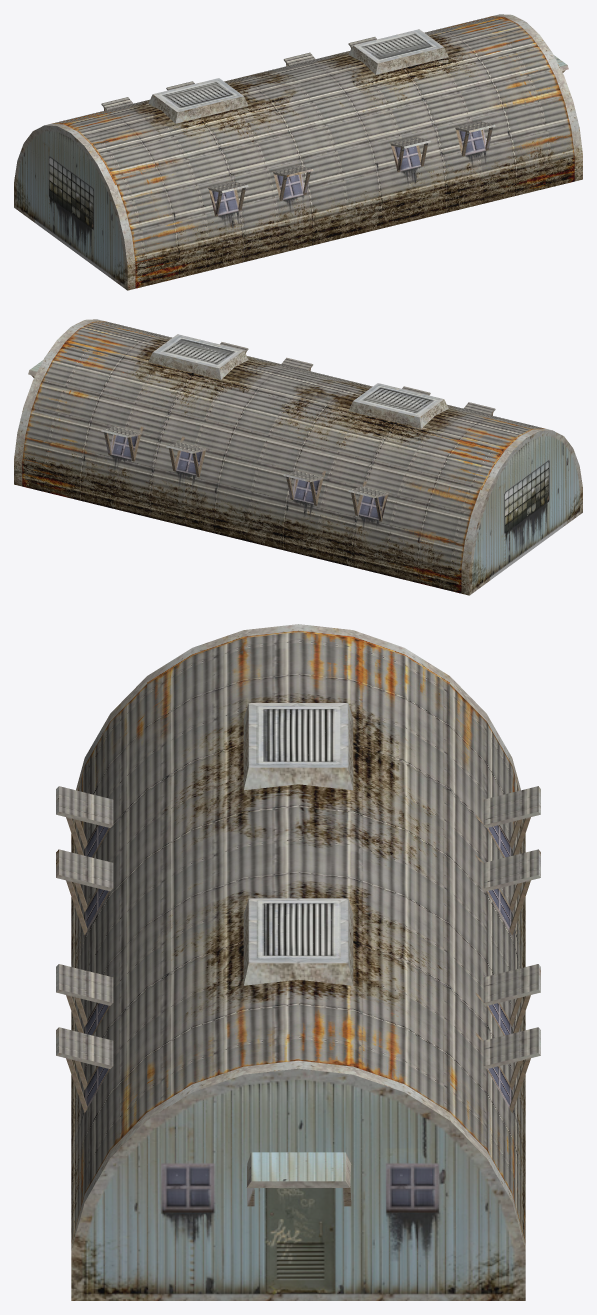
Rendered from barracks.glb.
3 views of the same model, one above another, from view 1: azimuth 30°, elevation 25°; view 2: azimuth 150°, elevation 25°; view 3: azimuth 270°, elevation 25° (orthographic). The views are drawn at different scales.
Parts seen in each view (by area): view 1: Cylinder001_Barrack Texture Map_0; view 2: Cylinder001_Barrack Texture Map_0; view 3: Cylinder001_Barrack Texture Map_0.
Part boxes in pixels (x1,y1,x2,y2): Cylinder001_Barrack Texture Map_0: (14,14,582,290); Cylinder001_Barrack Texture Map_0: (14,319,582,595); Cylinder001_Barrack Texture Map_0: (56,624,540,1300).
Bounding box in the file's own units: 1929 × 466 × 835.
Materials: 1 (1 with a texture image).
